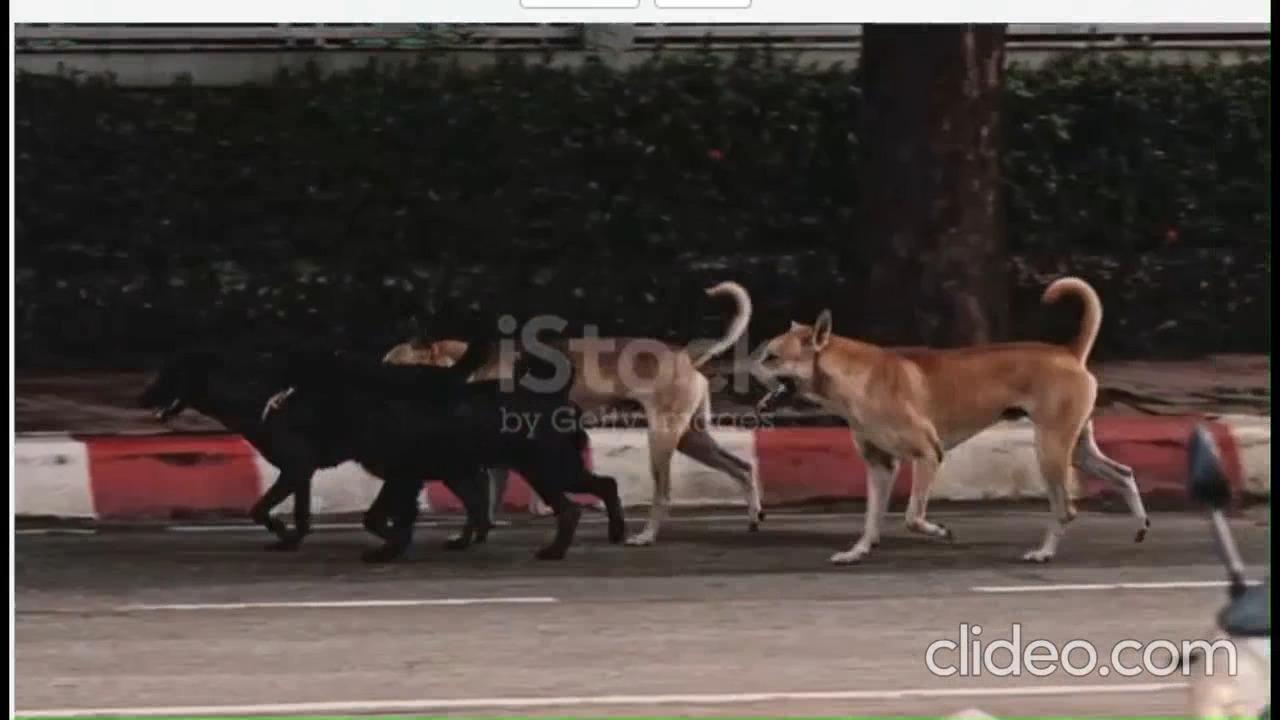dog: (706, 274, 1148, 553), (319, 302, 675, 534), (217, 314, 567, 526)
